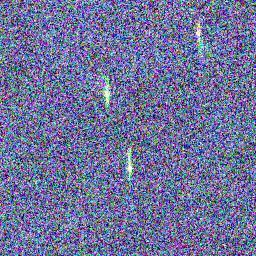Ship: (122, 146, 136, 182), (97, 81, 116, 107), (192, 25, 204, 42)
